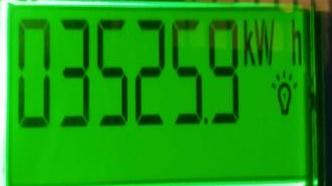.: (239, 16, 307, 69)
0: (202, 117, 209, 125)
1: (16, 18, 52, 123)
3: (133, 19, 170, 124)
4: (58, 20, 92, 123)
6: (95, 17, 131, 124), (171, 17, 207, 120)
:: (206, 18, 242, 122)
